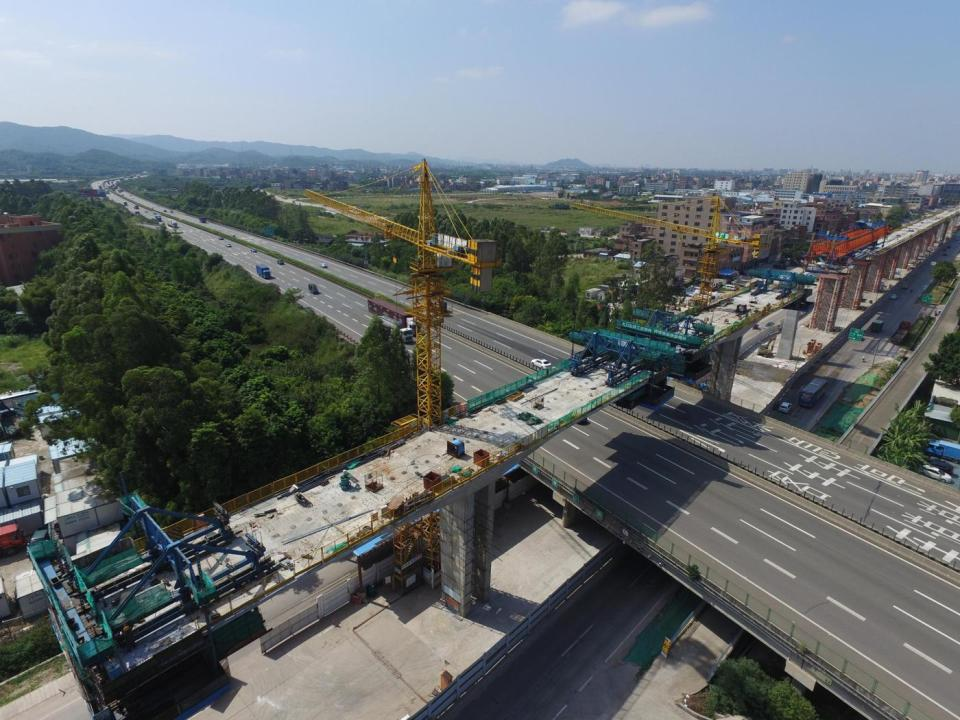bus: (798, 377, 827, 409)
car: (919, 464, 954, 483), (921, 458, 955, 474), (532, 358, 552, 368), (779, 402, 791, 413), (763, 322, 774, 331), (278, 259, 284, 265), (890, 293, 896, 299), (930, 260, 936, 266), (251, 248, 257, 252), (226, 244, 231, 248), (218, 236, 224, 239), (944, 252, 948, 256), (948, 245, 951, 249), (956, 236, 959, 240), (164, 209, 167, 211), (171, 211, 173, 213)
van: (368, 296, 421, 333), (375, 316, 415, 344), (925, 439, 960, 459), (26, 529, 50, 558), (891, 320, 912, 346), (77, 188, 105, 199), (255, 265, 272, 278), (872, 318, 884, 331), (308, 283, 318, 294), (722, 284, 737, 291), (774, 263, 787, 271), (166, 220, 177, 228), (200, 216, 206, 224), (902, 284, 910, 289), (156, 214, 161, 221), (320, 263, 327, 267), (136, 211, 140, 216), (232, 234, 236, 238), (135, 206, 139, 209), (123, 202, 127, 204)
